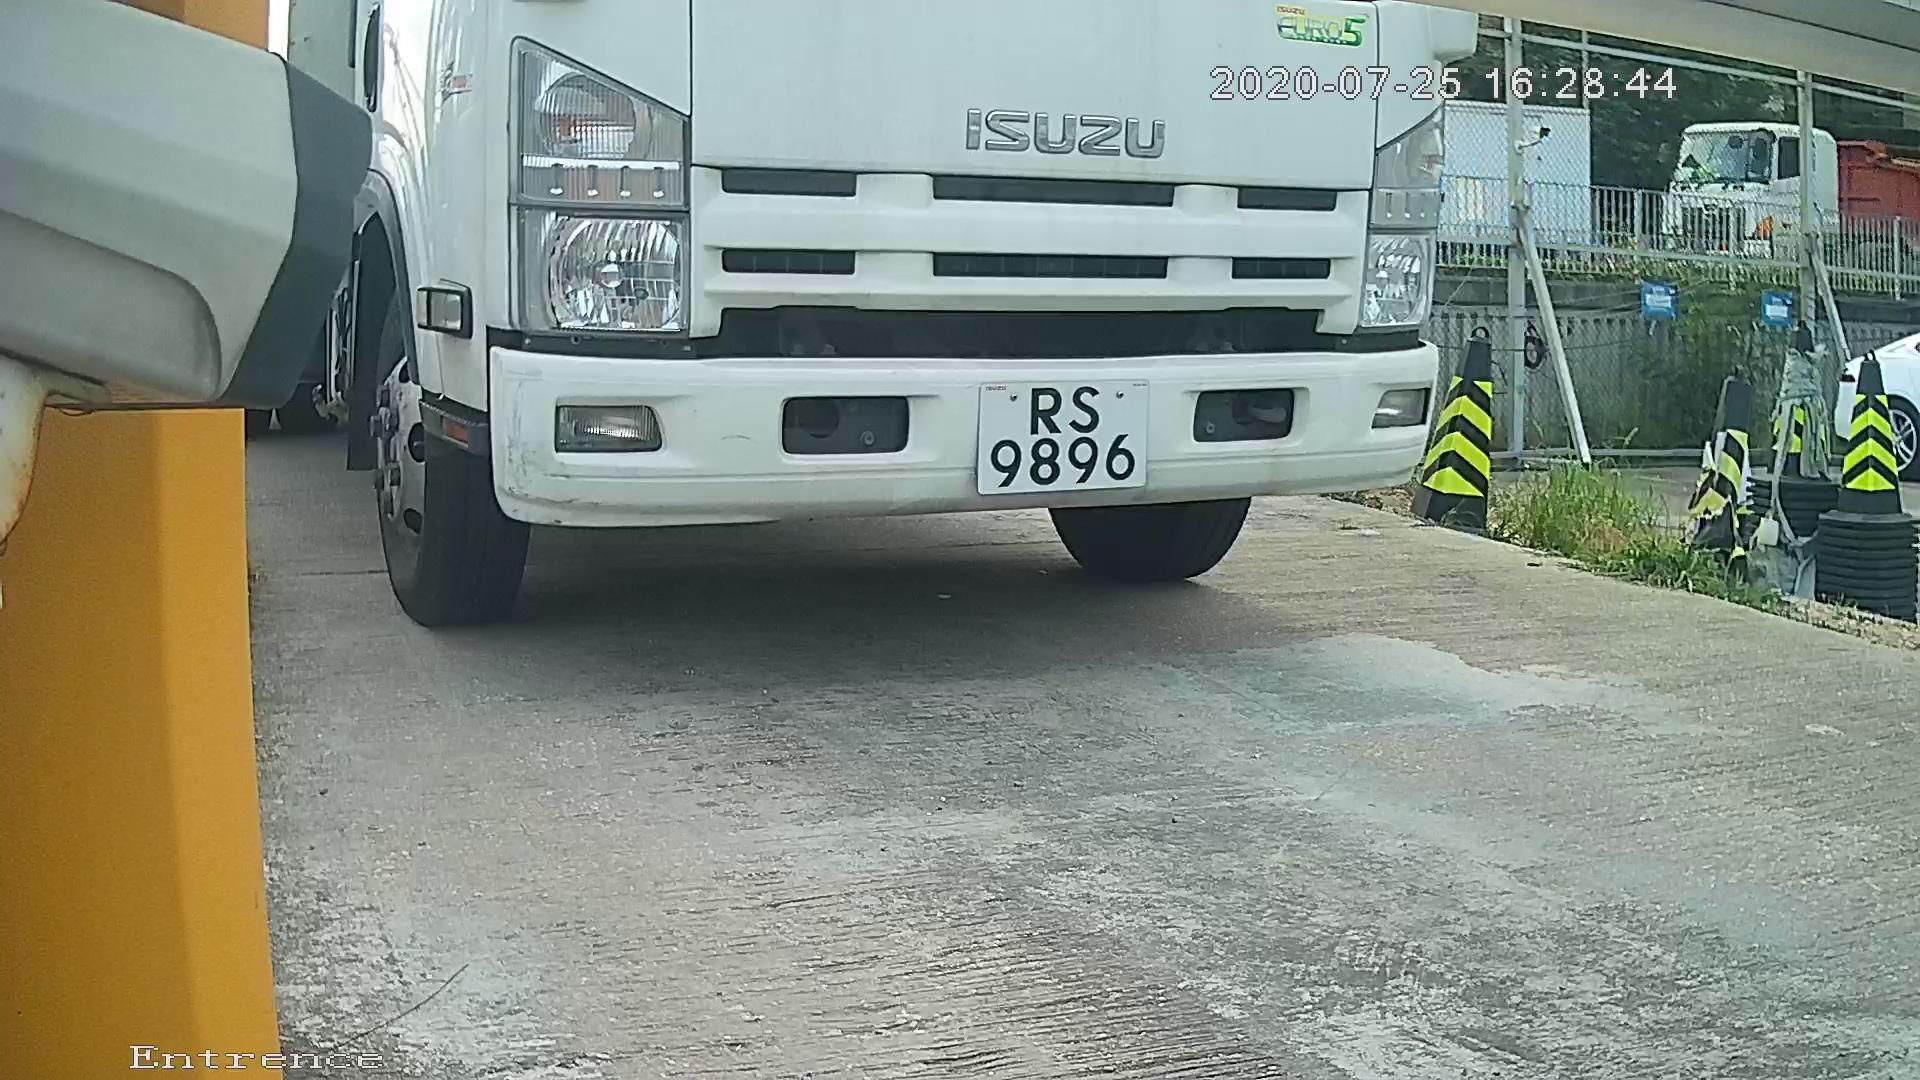Car: (215, 5, 1535, 661)
License Plate: (900, 362, 1183, 516)
